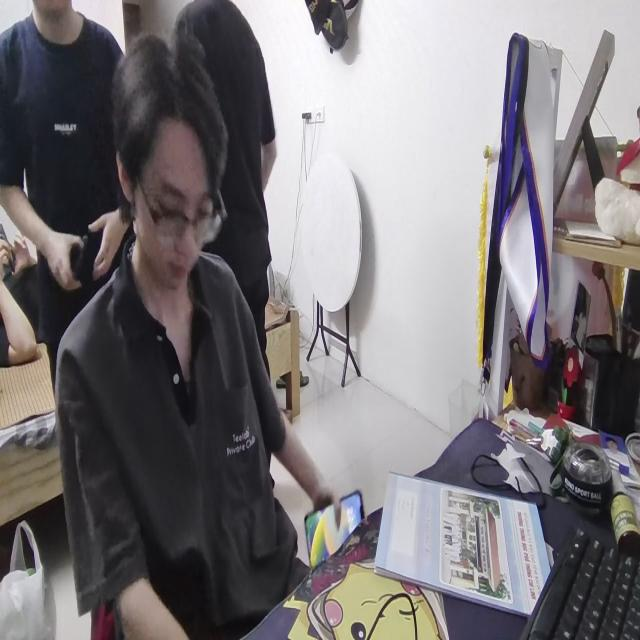book: (377, 465, 553, 625)
extra_person: (1, 0, 138, 370), (173, 0, 284, 384)
phone: (303, 484, 369, 566)
student: (54, 30, 340, 640)
